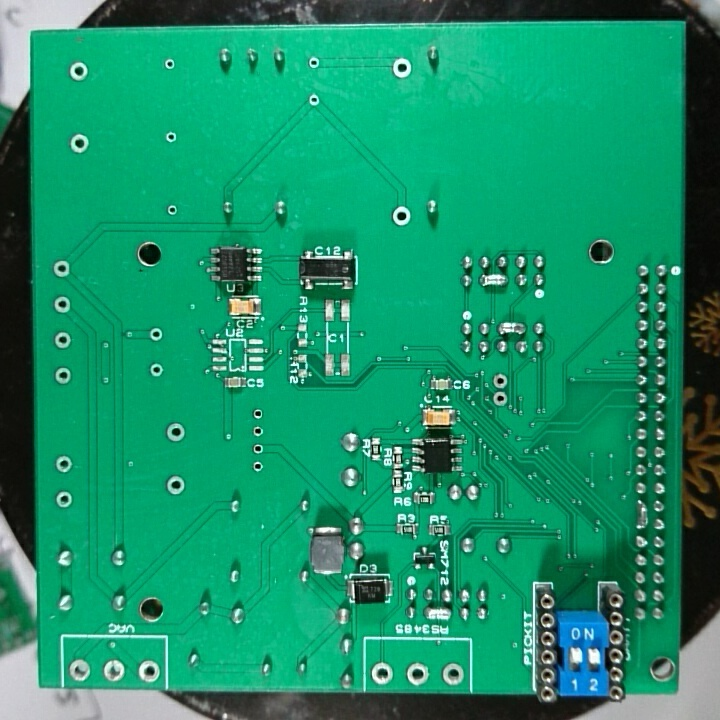F: (65, 657, 94, 684), (101, 658, 130, 685), (135, 656, 161, 686), (369, 659, 396, 687), (405, 659, 431, 686), (162, 419, 188, 445), (67, 130, 92, 157), (389, 56, 414, 81), (52, 487, 77, 512), (65, 59, 91, 83), (51, 364, 77, 388), (390, 204, 414, 229), (51, 257, 74, 283), (441, 661, 464, 687), (53, 453, 77, 477), (163, 474, 189, 496), (51, 293, 74, 317), (51, 329, 75, 352), (491, 371, 511, 391), (491, 389, 510, 410), (306, 89, 323, 112), (148, 360, 167, 380), (147, 324, 164, 346), (163, 201, 181, 220), (250, 459, 268, 477), (249, 441, 268, 458), (163, 129, 180, 146), (250, 406, 267, 423), (307, 54, 322, 72), (162, 55, 177, 73), (251, 423, 267, 438)
P: (478, 269, 508, 291), (420, 604, 454, 623), (634, 498, 650, 532), (497, 319, 528, 336)
